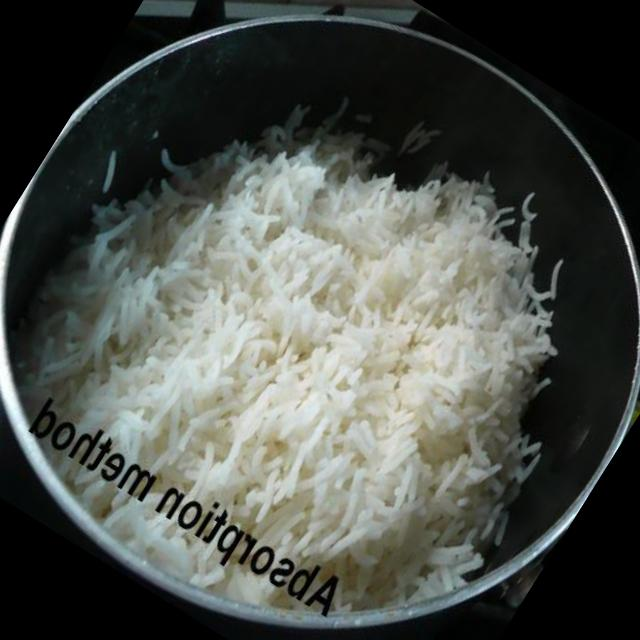rice: (7, 139, 552, 611)
